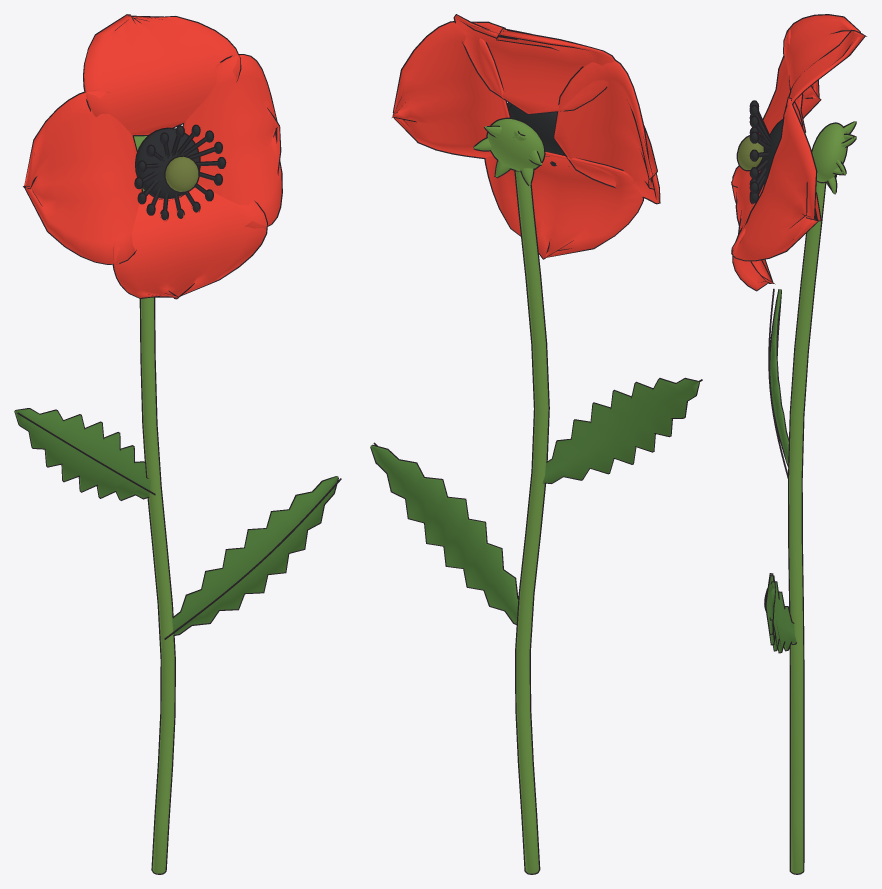
The model's file is poppy_toon.glb.
The picture shows the model from 3 angles, left to right: view 1: azimuth 30°, elevation 25°; view 2: azimuth 150°, elevation 25°; view 3: azimuth 270°, elevation 25°; orthographic projection. The views are drawn at different scales.
Parts seen in each view (by area): view 1: poppy_Geometry; view 2: poppy_Geometry; view 3: poppy_Geometry.
Part boxes in pixels (x1,y1,x2,y2): poppy_Geometry: (14,14,341,874); poppy_Geometry: (370,14,702,874); poppy_Geometry: (731,14,866,874).
Bounding box in the file's own units: 0.2098 × 0.5235 × 0.077.
